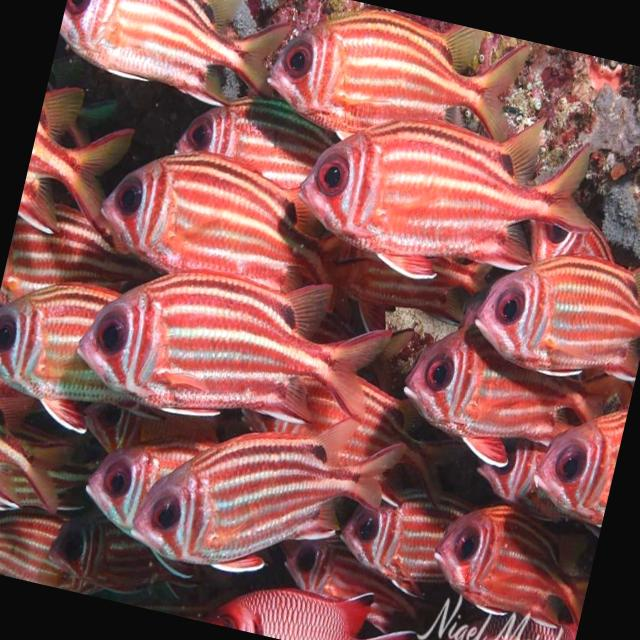Asker Baligi: (275, 74, 623, 329), (113, 359, 424, 623), (77, 230, 402, 464), (458, 216, 640, 414), (47, 0, 304, 131)
